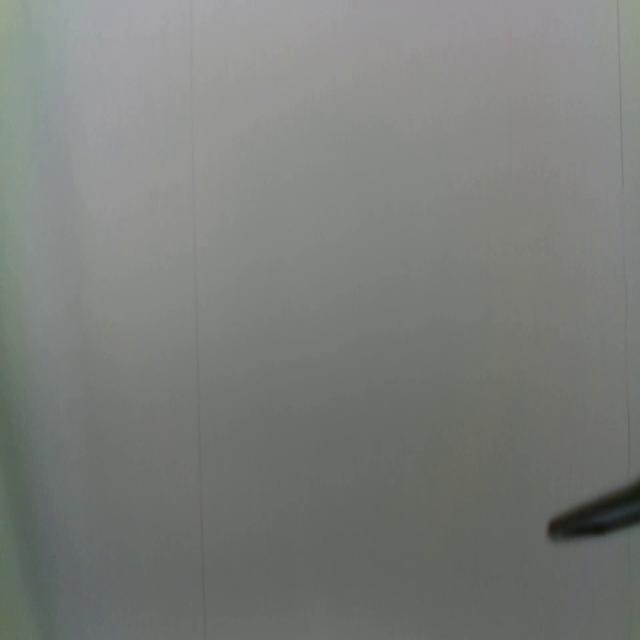crease: (187, 1, 208, 640), (620, 253, 632, 484), (616, 0, 629, 196)
